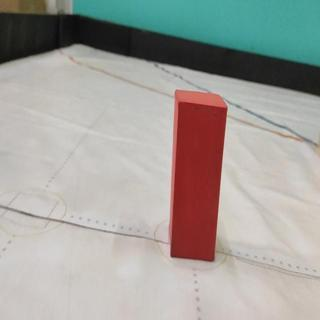redbox: (169, 88, 228, 260)
